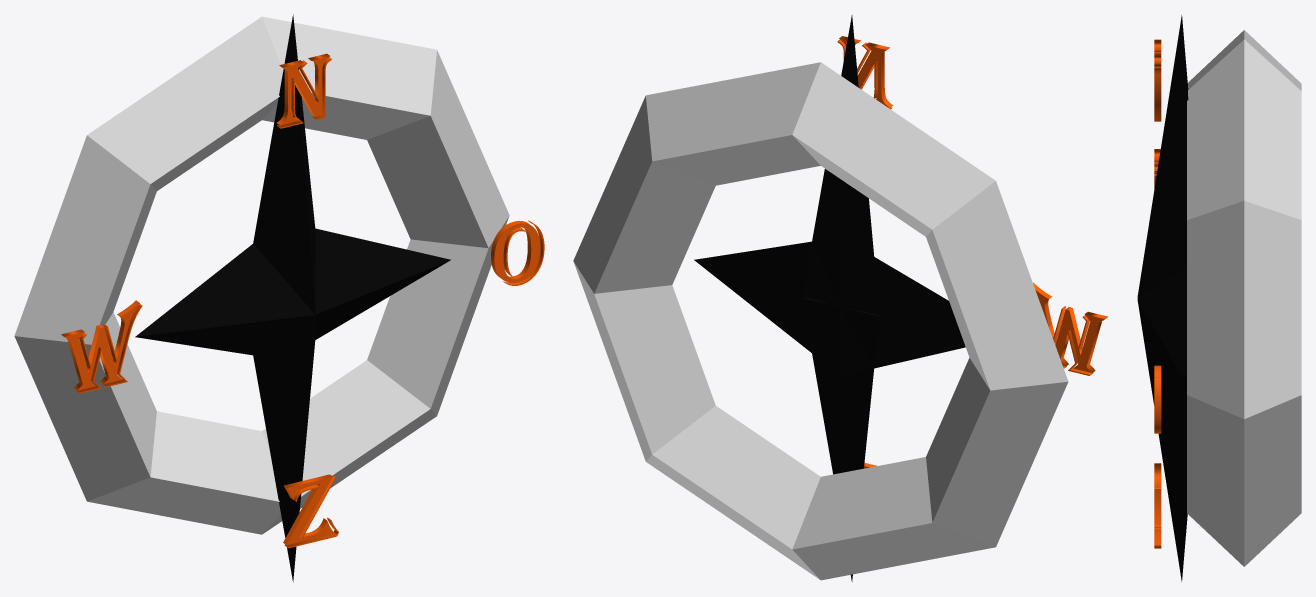
Rendered from Kompas.glb.
3 renders of one model, left to right at view 1: azimuth 30°, elevation 25°; view 2: azimuth 150°, elevation 25°; view 3: azimuth 270°, elevation 25°, orthographic.
Parts seen in each view (by area): view 1: Torus.004, Cone, Text.003, Text, Text.002, Text.001; view 2: Torus.004, Cone, Text.003, Text; view 3: Torus.004, Cone, Text.002, Text, Text.001.
Boxes of the visible parts, x1=… form: Torus.004: x1=14, y1=16, x2=509, y2=534; Cone: x1=135, y1=14, x2=450, y2=582; Text.003: x1=61, y1=300, x2=142, y2=393; Text: x1=276, y1=53, x2=331, y2=128; Text.002: x1=283, y1=474, x2=338, y2=548; Text.001: x1=491, y1=220, x2=544, y2=285; Torus.004: x1=573, y1=62, x2=1068, y2=580; Cone: x1=694, y1=15, x2=965, y2=581; Text.003: x1=1033, y1=282, x2=1108, y2=375; Text: x1=837, y1=36, x2=892, y2=109; Torus.004: x1=1187, y1=30, x2=1301, y2=566; Cone: x1=1137, y1=15, x2=1188, y2=581; Text.002: x1=1154, y1=463, x2=1161, y2=548; Text: x1=1154, y1=39, x2=1161, y2=121; Text.001: x1=1154, y1=365, x2=1161, y2=433.
Size of the model in its own units: 2.5 by 2.74 by 0.717.
